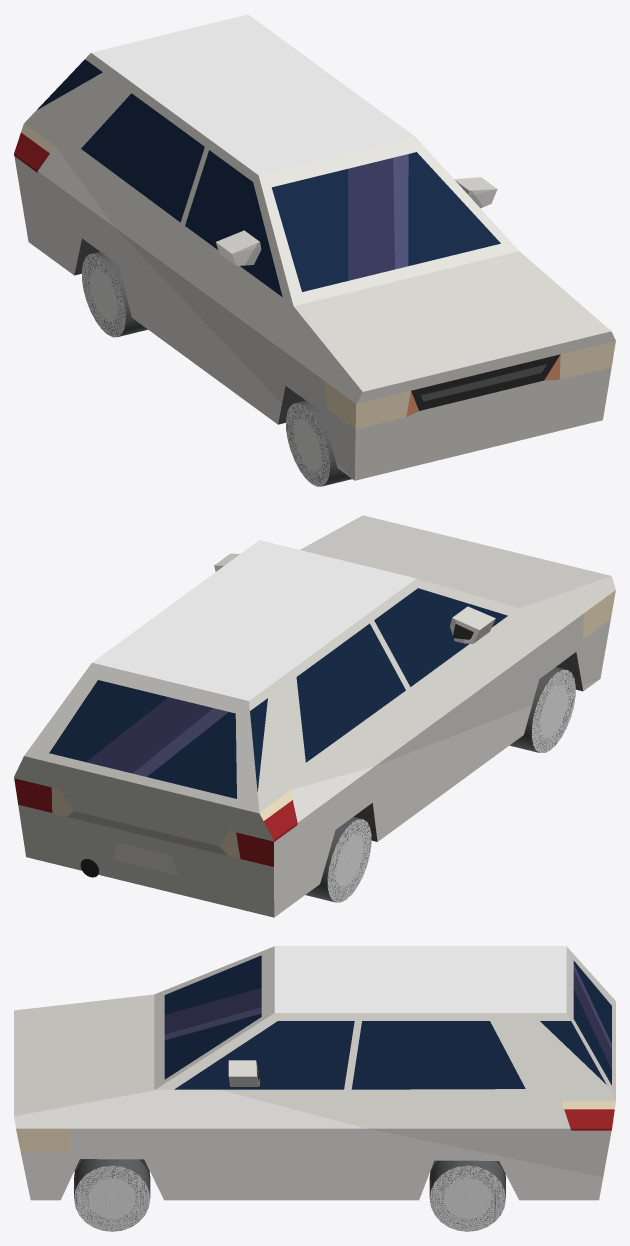
The model's file is car.dae.
The picture shows the model from 3 angles, top to bottom: view 1: azimuth 30°, elevation 25°; view 2: azimuth 150°, elevation 25°; view 3: azimuth 270°, elevation 25°; orthographic projection. The views are drawn at different scales.
Visible parts, largest first — view 1: group_1 (×16), Group_11 (×6), Component_1 (×2); view 2: group_1 (×17), Group_11 (×6), Component_1; view 3: group_1 (×16), Group_11 (×6), Component_1.
Part boxes in pixels (x1,y1,x2,y2): group_1 (×16): (14,14,615,480); Group_11 (×6): (82,251,351,486); Component_1 (×2): (216,177,497,265); group_1 (×17): (14,515,615,917); Group_11 (×6): (305,667,575,902); Component_1: (452,606,495,643); group_1 (×16): (14,946,615,1200); Group_11 (×6): (74,1159,505,1231); Component_1: (228,1060,259,1086).
Bounding box in the file's own units: 72 × 162 × 59.64.
